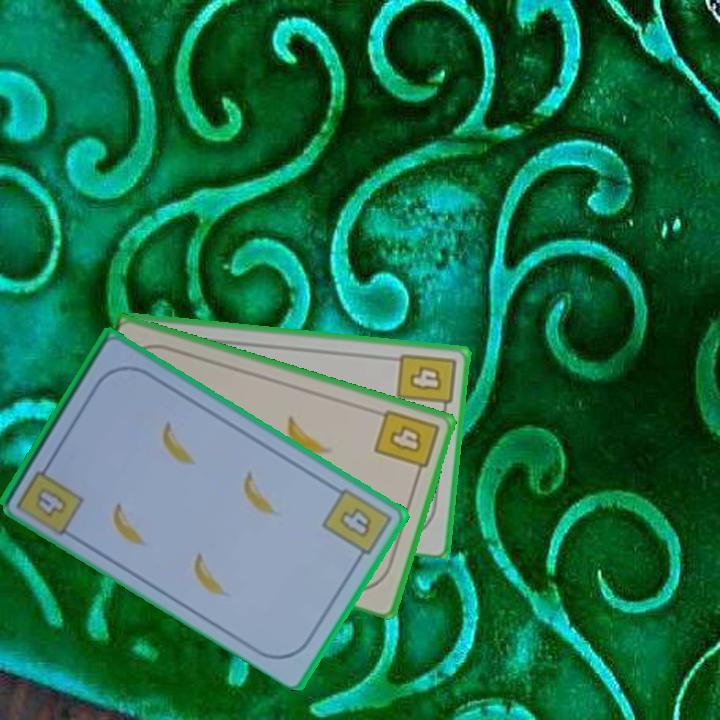4b: (318, 483, 395, 565), (371, 405, 442, 481), (393, 349, 458, 417), (32, 483, 71, 520)
